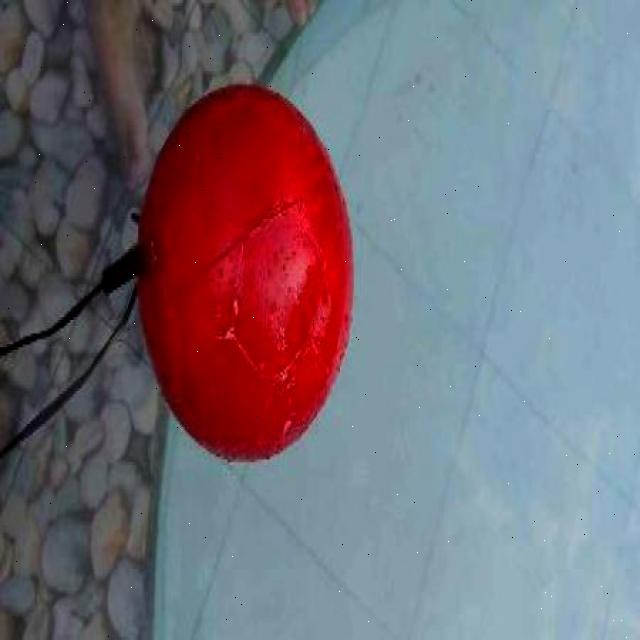buoy: (136, 83, 353, 464)
